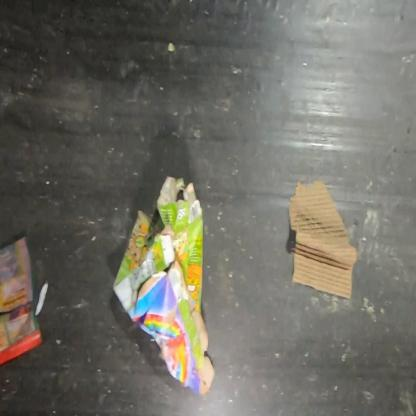cardboard: (112, 174, 216, 398), (287, 179, 359, 300)
